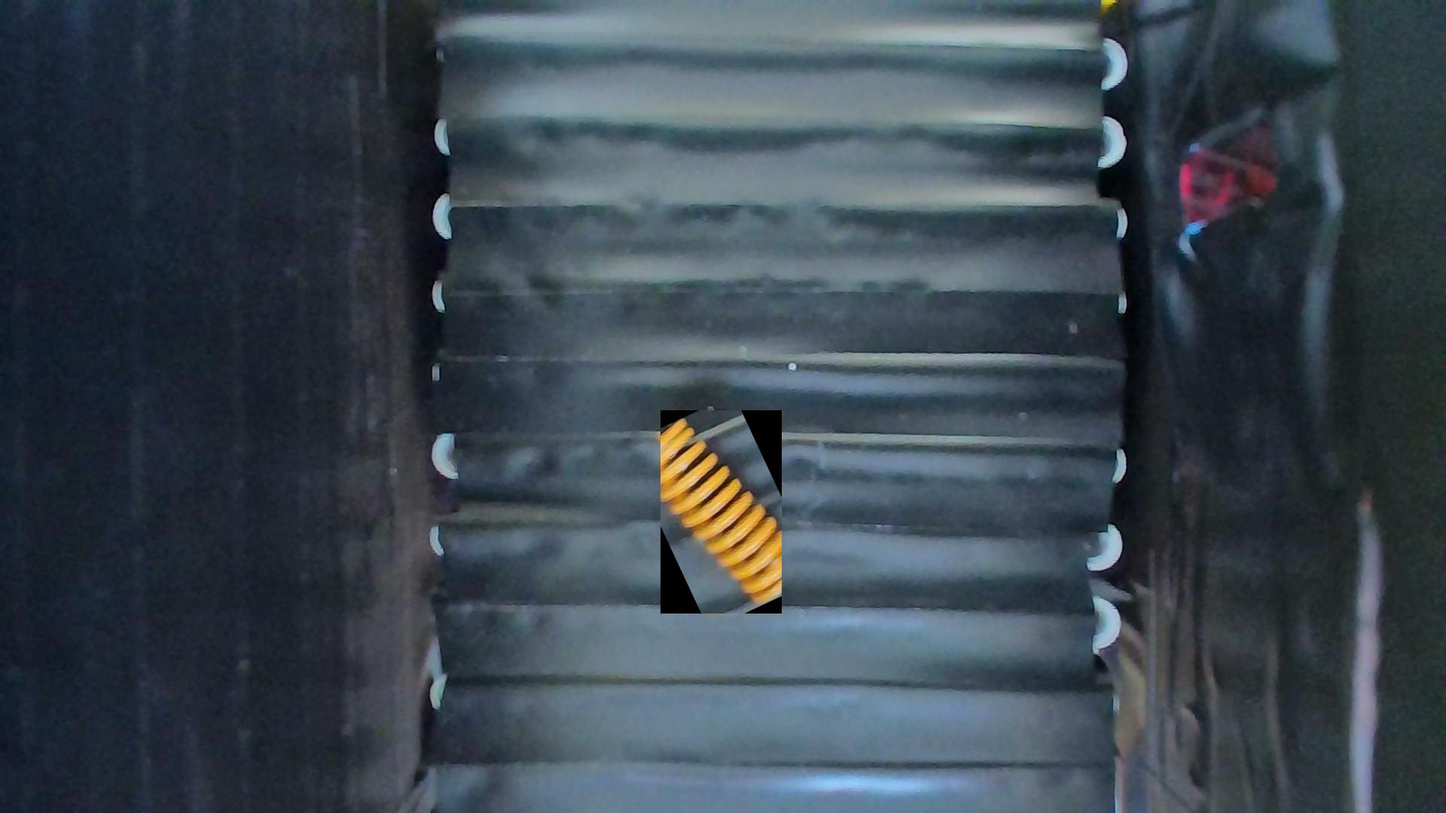spring: (659, 410, 781, 614)
